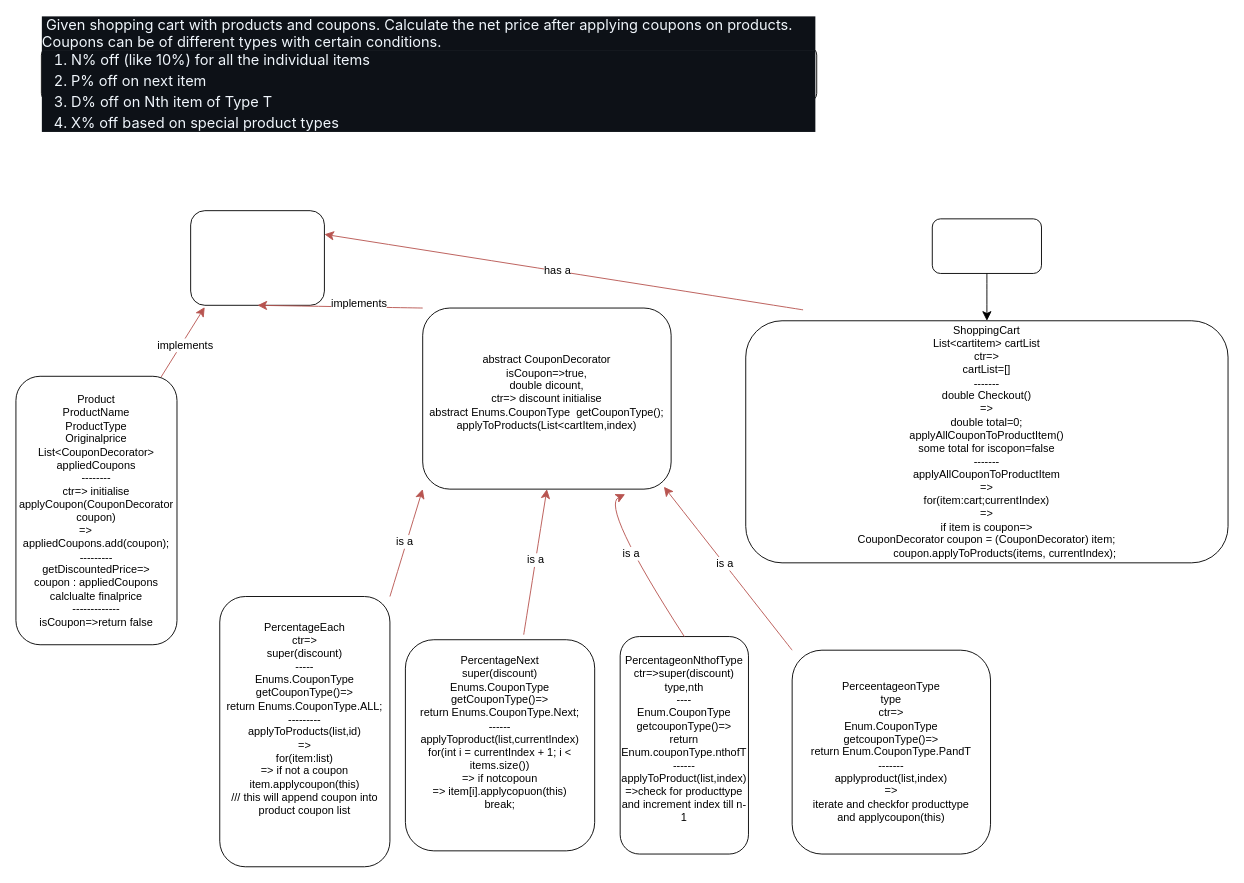
The diagram is 1244 pixels wide and 883 high, and some of its shapes have lost their labels. The shapes that lost their labels are listed below. From the top down, each one's box as (x1, y1, x2, y2) in pixels, then its label:
(190, 210, 324, 305): cartItem<Interface> isCoupon,
(931, 218, 1041, 273): Cart addItem(cartItem) checkout()
